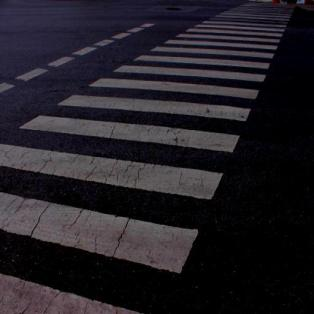Paso de Cebra: (11, 90, 262, 157)
